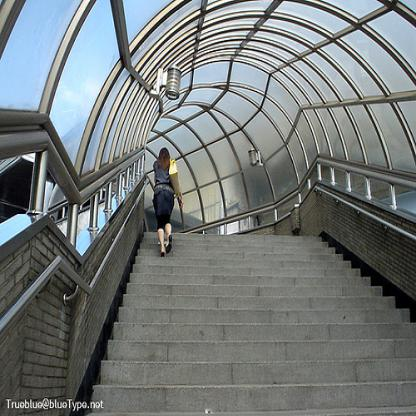stairs: (132, 275, 368, 416)
